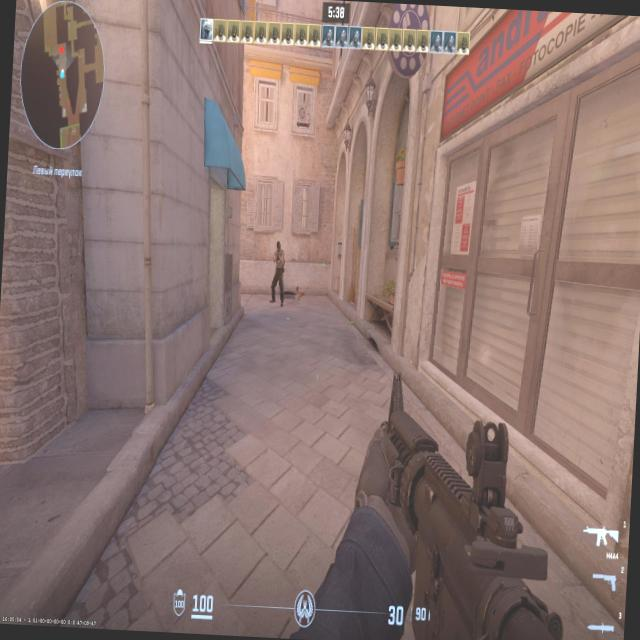T: (274, 242, 284, 298)
T_heat: (276, 243, 282, 258)
